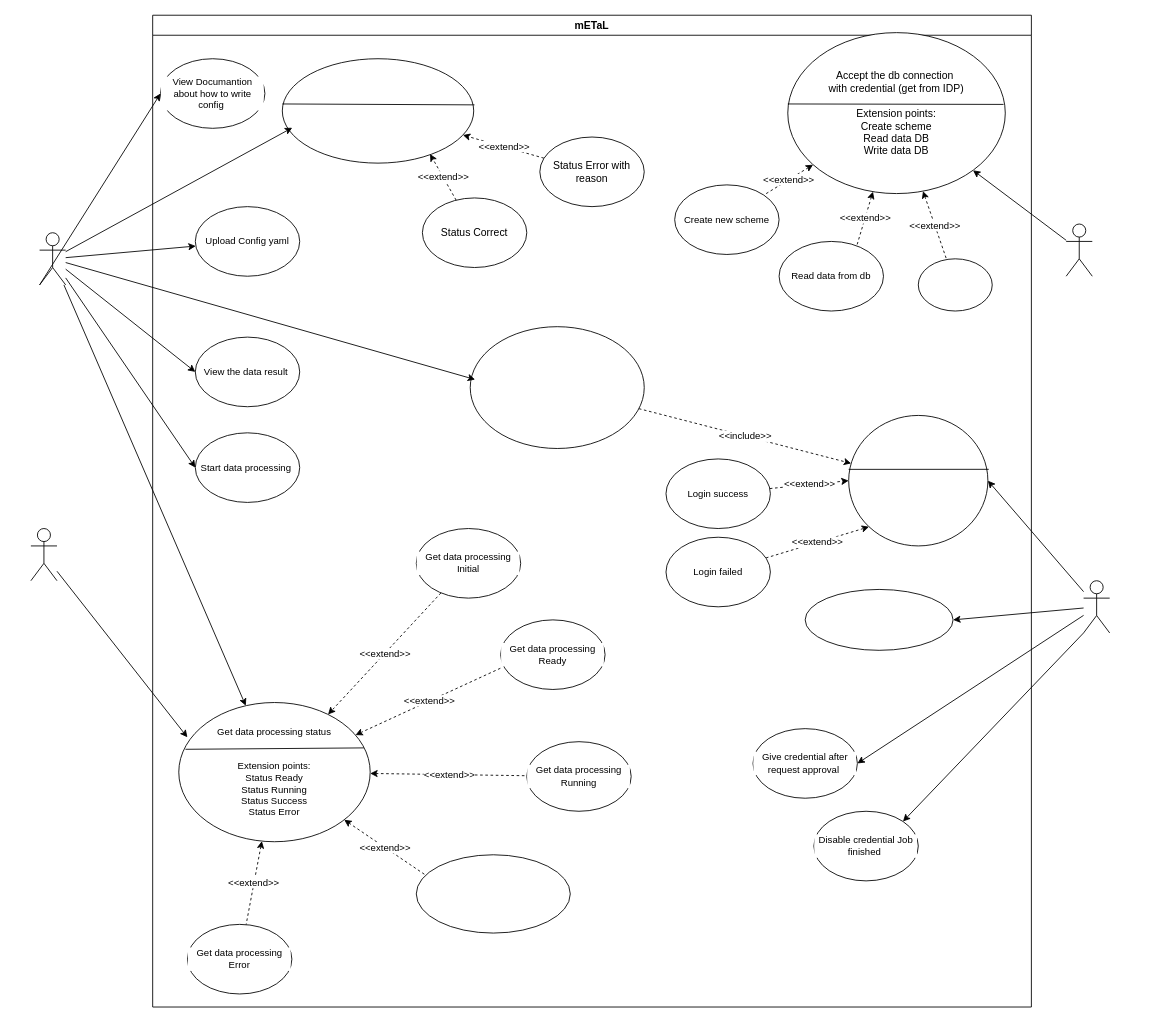
The diagram is 1162 pixels wide and 1022 high, and some of its shapes have lost their labels. The centre of each missing label's shape, as x and y in pixels:
"Accept the request for getting db access credential" goes at (x=878, y=619).
"Authenticate User use SSO Extension points: Login success Login Failed" goes at (x=918, y=480).
"Config validation status Extension points: Status Error Status Correct" goes at (x=377, y=110).
"Email Service" goes at (x=43, y=554).
"External DB" goes at (x=1078, y=249).
"Get data processing Success" goes at (x=492, y=893).
"IDP (Identity provider)" goes at (x=1096, y=606).
"Login using SSO" goes at (x=556, y=387).
"User" goes at (x=52, y=258).
"Write data to db" goes at (x=954, y=284).
